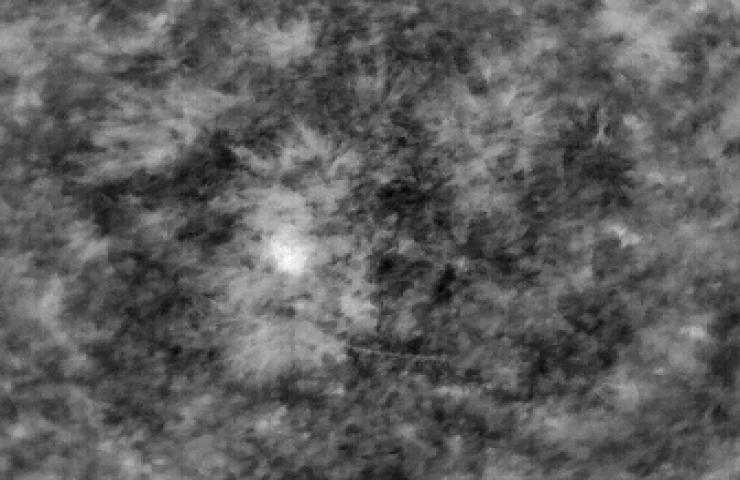landmines: (267, 233, 317, 277)
